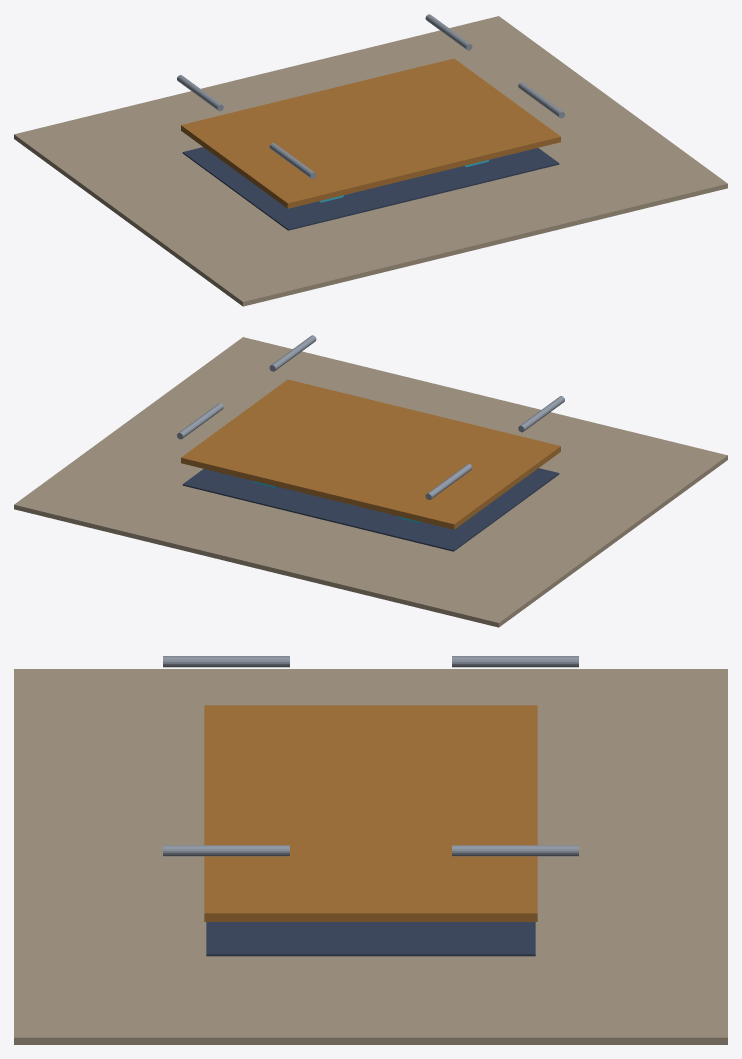
The model's file is stage_04_columns.glb.
3 views of the same model, one above another, from view 1: azimuth 30°, elevation 25°; view 2: azimuth 150°, elevation 25°; view 3: azimuth 270°, elevation 25° (orthographic). The views are drawn at different scales.
Parts seen in each view (by area): view 1: world; view 2: world; view 3: world.
Boxes of the visible parts, x1=… form: world: x1=14, y1=14, x2=727, y2=306; world: x1=14, y1=335, x2=727, y2=627; world: x1=14, y1=656, x2=727, y2=1044.
Size of the model in its own units: 11 by 1.52 by 9.
